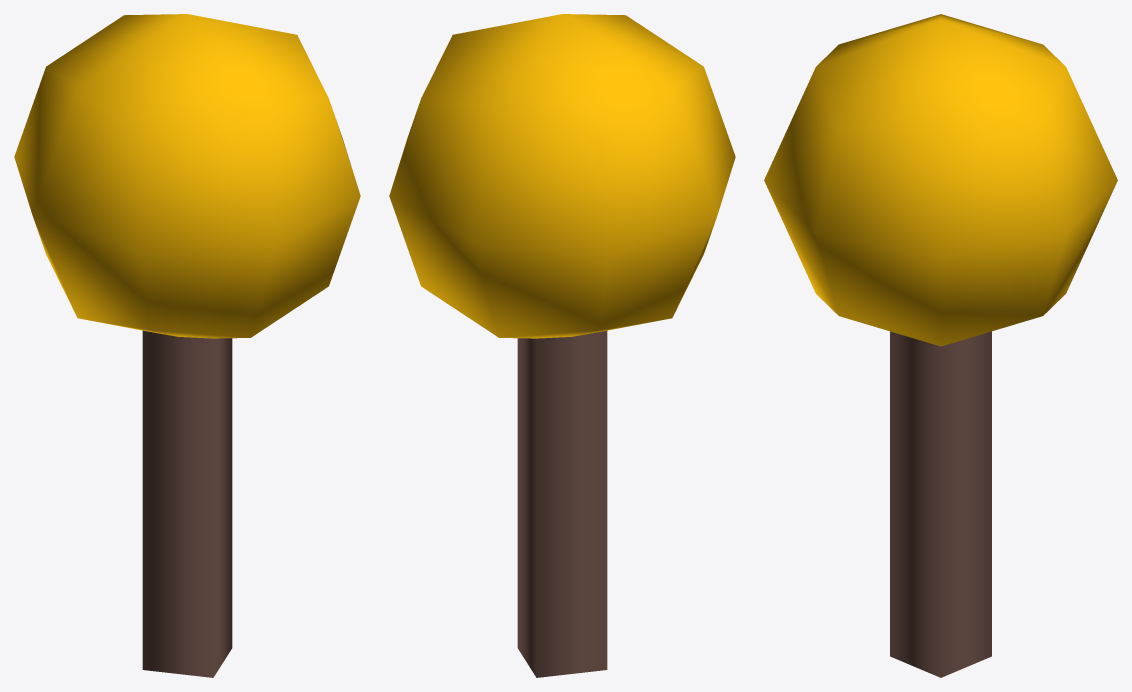
The model's file is Garland_002.fbx.
The picture shows the model from 3 angles, left to right: view 1: azimuth 30°, elevation 25°; view 2: azimuth 150°, elevation 25°; view 3: azimuth 270°, elevation 25°; orthographic projection.
Parts seen in each view (by area): view 1: Garland_002; view 2: Garland_002; view 3: Garland_002.
Boxes of the visible parts, left/top/right/bottom form: Garland_002: left=14, top=14, right=360, bottom=677; Garland_002: left=389, top=14, right=735, bottom=677; Garland_002: left=764, top=14, right=1117, bottom=677.
Size of the model in its own units: 0.2644 by 0.5245 by 0.2644.
